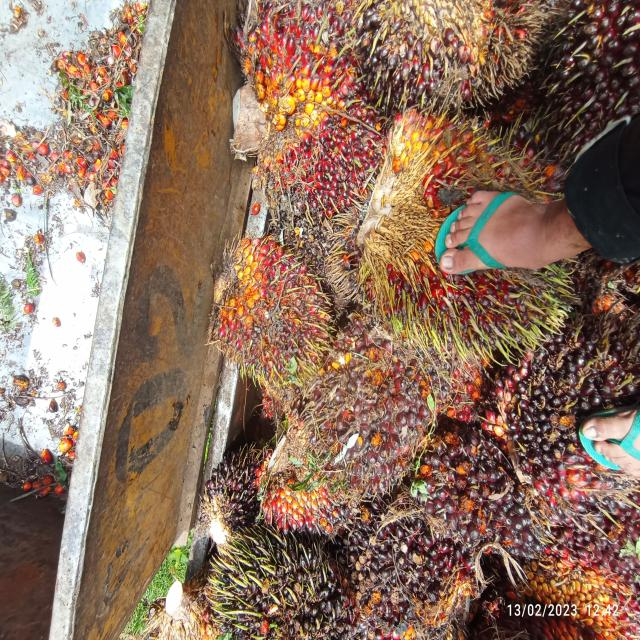fraksi 00: (203, 534, 353, 640), (250, 431, 364, 561), (180, 450, 282, 543)
fraksi 1: (255, 35, 620, 378), (336, 420, 529, 640), (305, 321, 449, 492)
fraksi 3: (199, 4, 378, 237), (180, 239, 338, 388)
